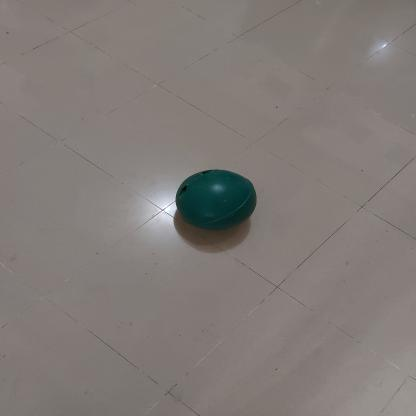green_buoy: (173, 168, 259, 233)
